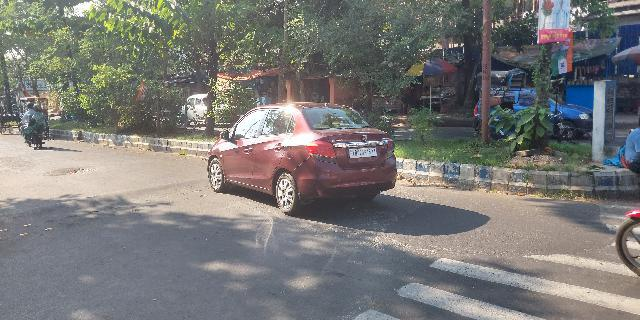Car: (200, 99, 399, 214)
Motorbike: (15, 95, 53, 152)
